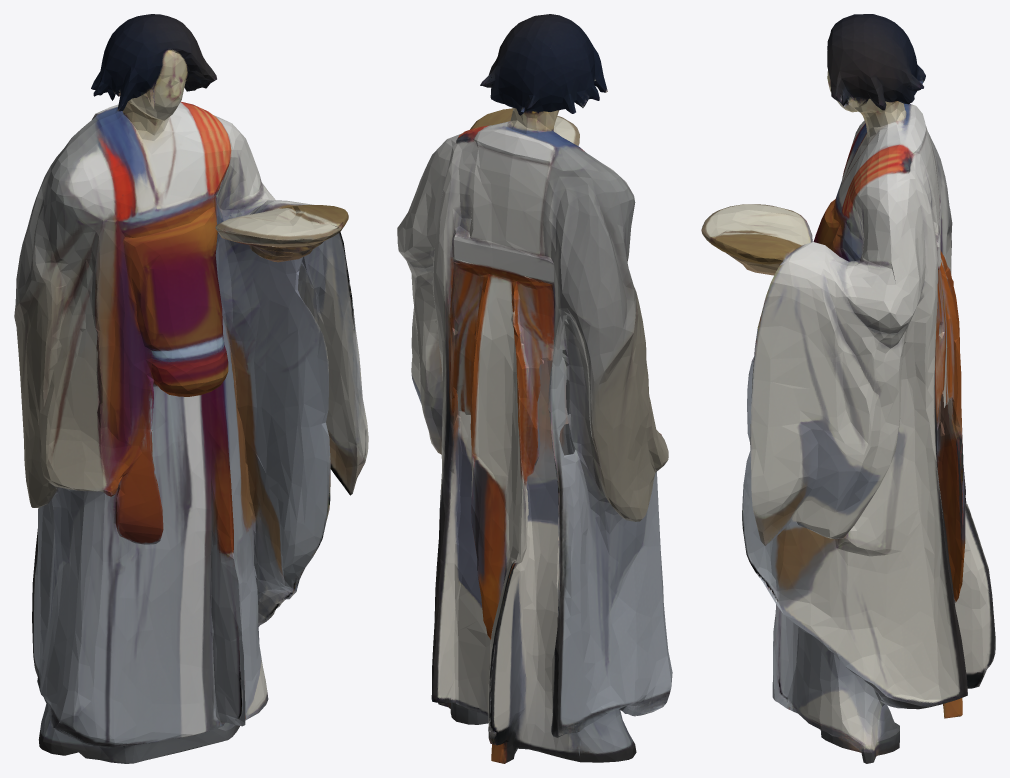
Rendered from anime_ancient_scholar.glb.
3 views of the same model, side by side, from view 1: azimuth 30°, elevation 25°; view 2: azimuth 150°, elevation 25°; view 3: azimuth 270°, elevation 25° (orthographic). The views are drawn at different scales.
Parts seen in each view (by area): view 1: world; view 2: world; view 3: world.
Part boxes in pixels (left/top/right/bottom): world: left=14, top=14, right=368, bottom=763; world: left=397, top=14, right=672, bottom=763; world: left=701, top=14, right=995, bottom=763.
Bounding box in the file's own units: 0.3939 × 1 × 0.3838.
Materials: 1 (1 with a texture image).
